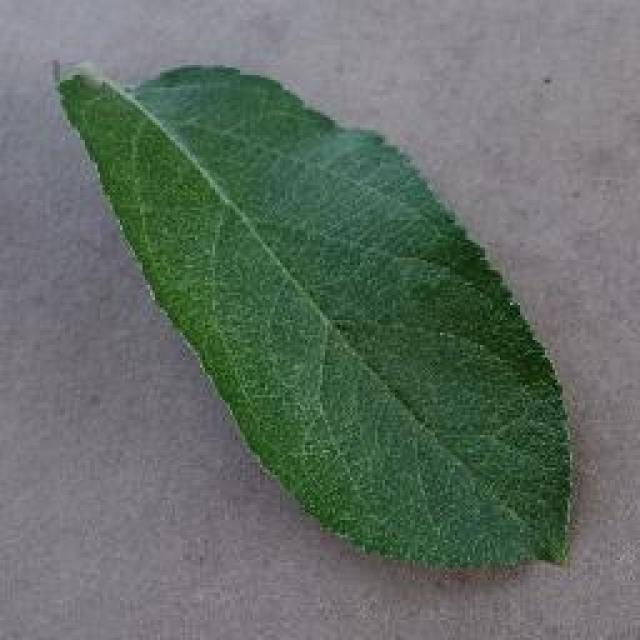apple healthy: (50, 55, 578, 575)
